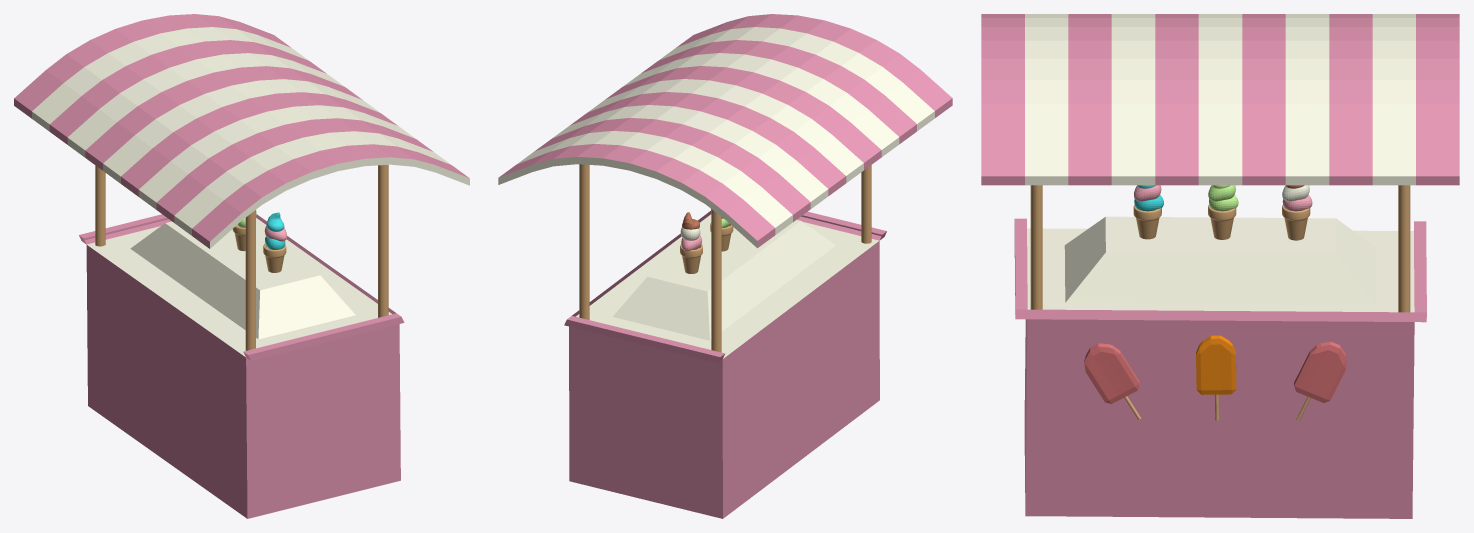
Rendered from Charlton_IcecreamTruck1.glb.
The picture shows the model from 3 angles, left to right: view 1: azimuth 30°, elevation 25°; view 2: azimuth 150°, elevation 25°; view 3: azimuth 270°, elevation 25°; orthographic projection. The views are drawn at different scales.
Parts seen in each view (by area): view 1: Cart, TopCover, Cylinder.003, Cylinder.004, Cylinder.001; view 2: Cart, TopCover, Cylinder.002, Cylinder.001, Cylinder.004; view 3: Cart, TopCover, Popsicletop, Popsicletop.002, Popsicletop.001, Cylinder.002, Cylinder.003, cone.002, cone.001, cone.
Part boxes in pixels (x1,y1,x2,y2): Cart: (79, 214, 404, 518); TopCover: (14, 14, 469, 248); Cylinder.003: (378, 165, 388, 317); Cylinder.004: (245, 210, 255, 350); Cylinder.001: (95, 165, 105, 246); Cart: (564, 211, 886, 518); TopCover: (498, 14, 952, 247); Cylinder.002: (579, 164, 589, 319); Cylinder.001: (711, 209, 721, 352); Cylinder.004: (861, 165, 871, 243); Cart: (1014, 216, 1426, 518); TopCover: (981, 14, 1459, 185); Popsicletop: (1084, 343, 1139, 403); Popsicletop.002: (1294, 341, 1346, 402); Popsicletop.001: (1196, 335, 1236, 394); Cylinder.002: (1398, 185, 1410, 312); Cylinder.003: (1030, 185, 1042, 309); cone.002: (1282, 204, 1310, 240); cone.001: (1208, 205, 1236, 239); cone: (1133, 205, 1161, 239).
Size of the model in its own units: 3.38 by 4.39 by 4.41.
